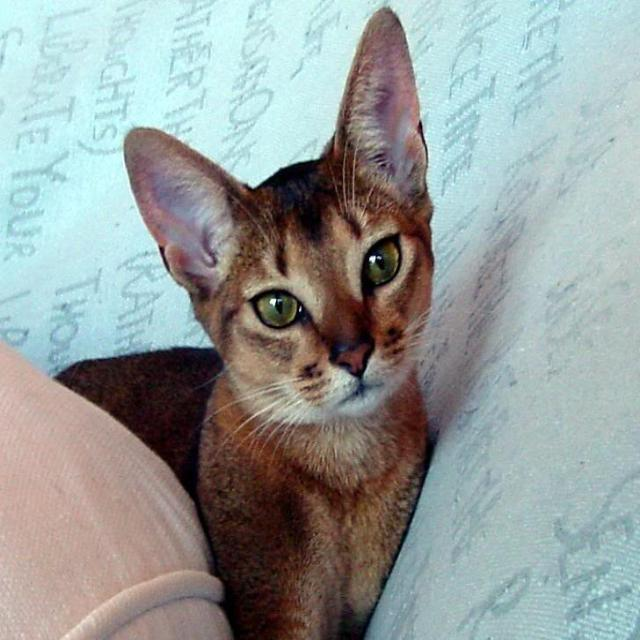Abyssinian: (118, 4, 444, 433)
